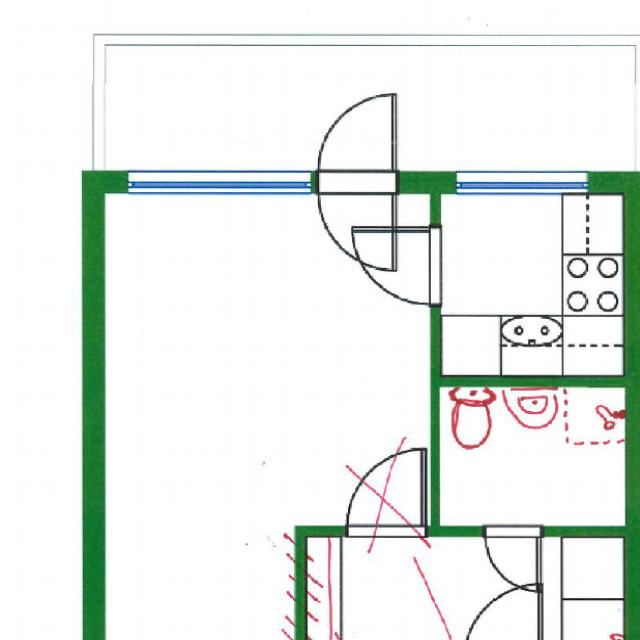door: (317, 170, 395, 271), (317, 93, 395, 193), (464, 587, 538, 640), (486, 525, 536, 587)
